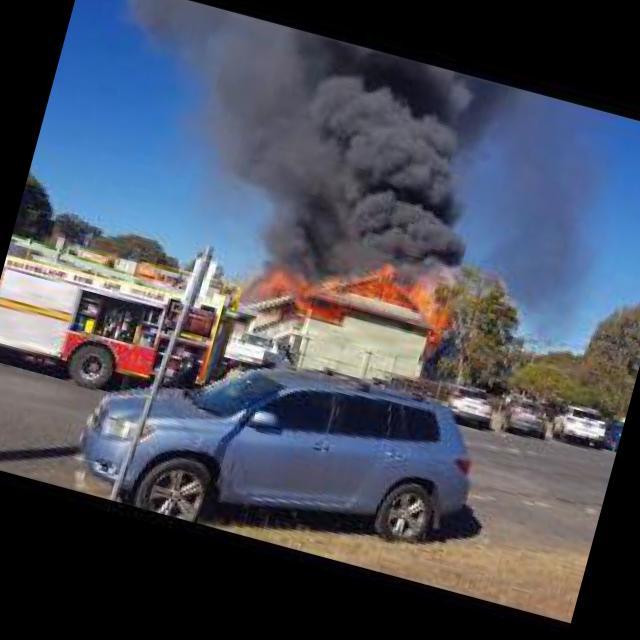fire: (250, 221, 460, 359)
smoke: (168, 12, 506, 265)
